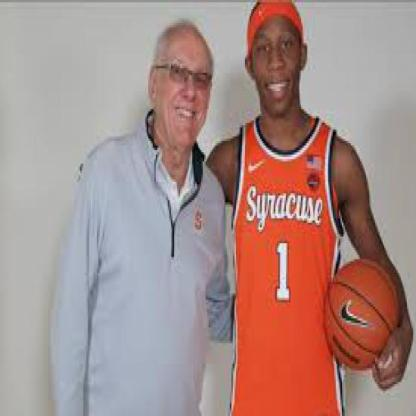basketball: (324, 259, 398, 368)
